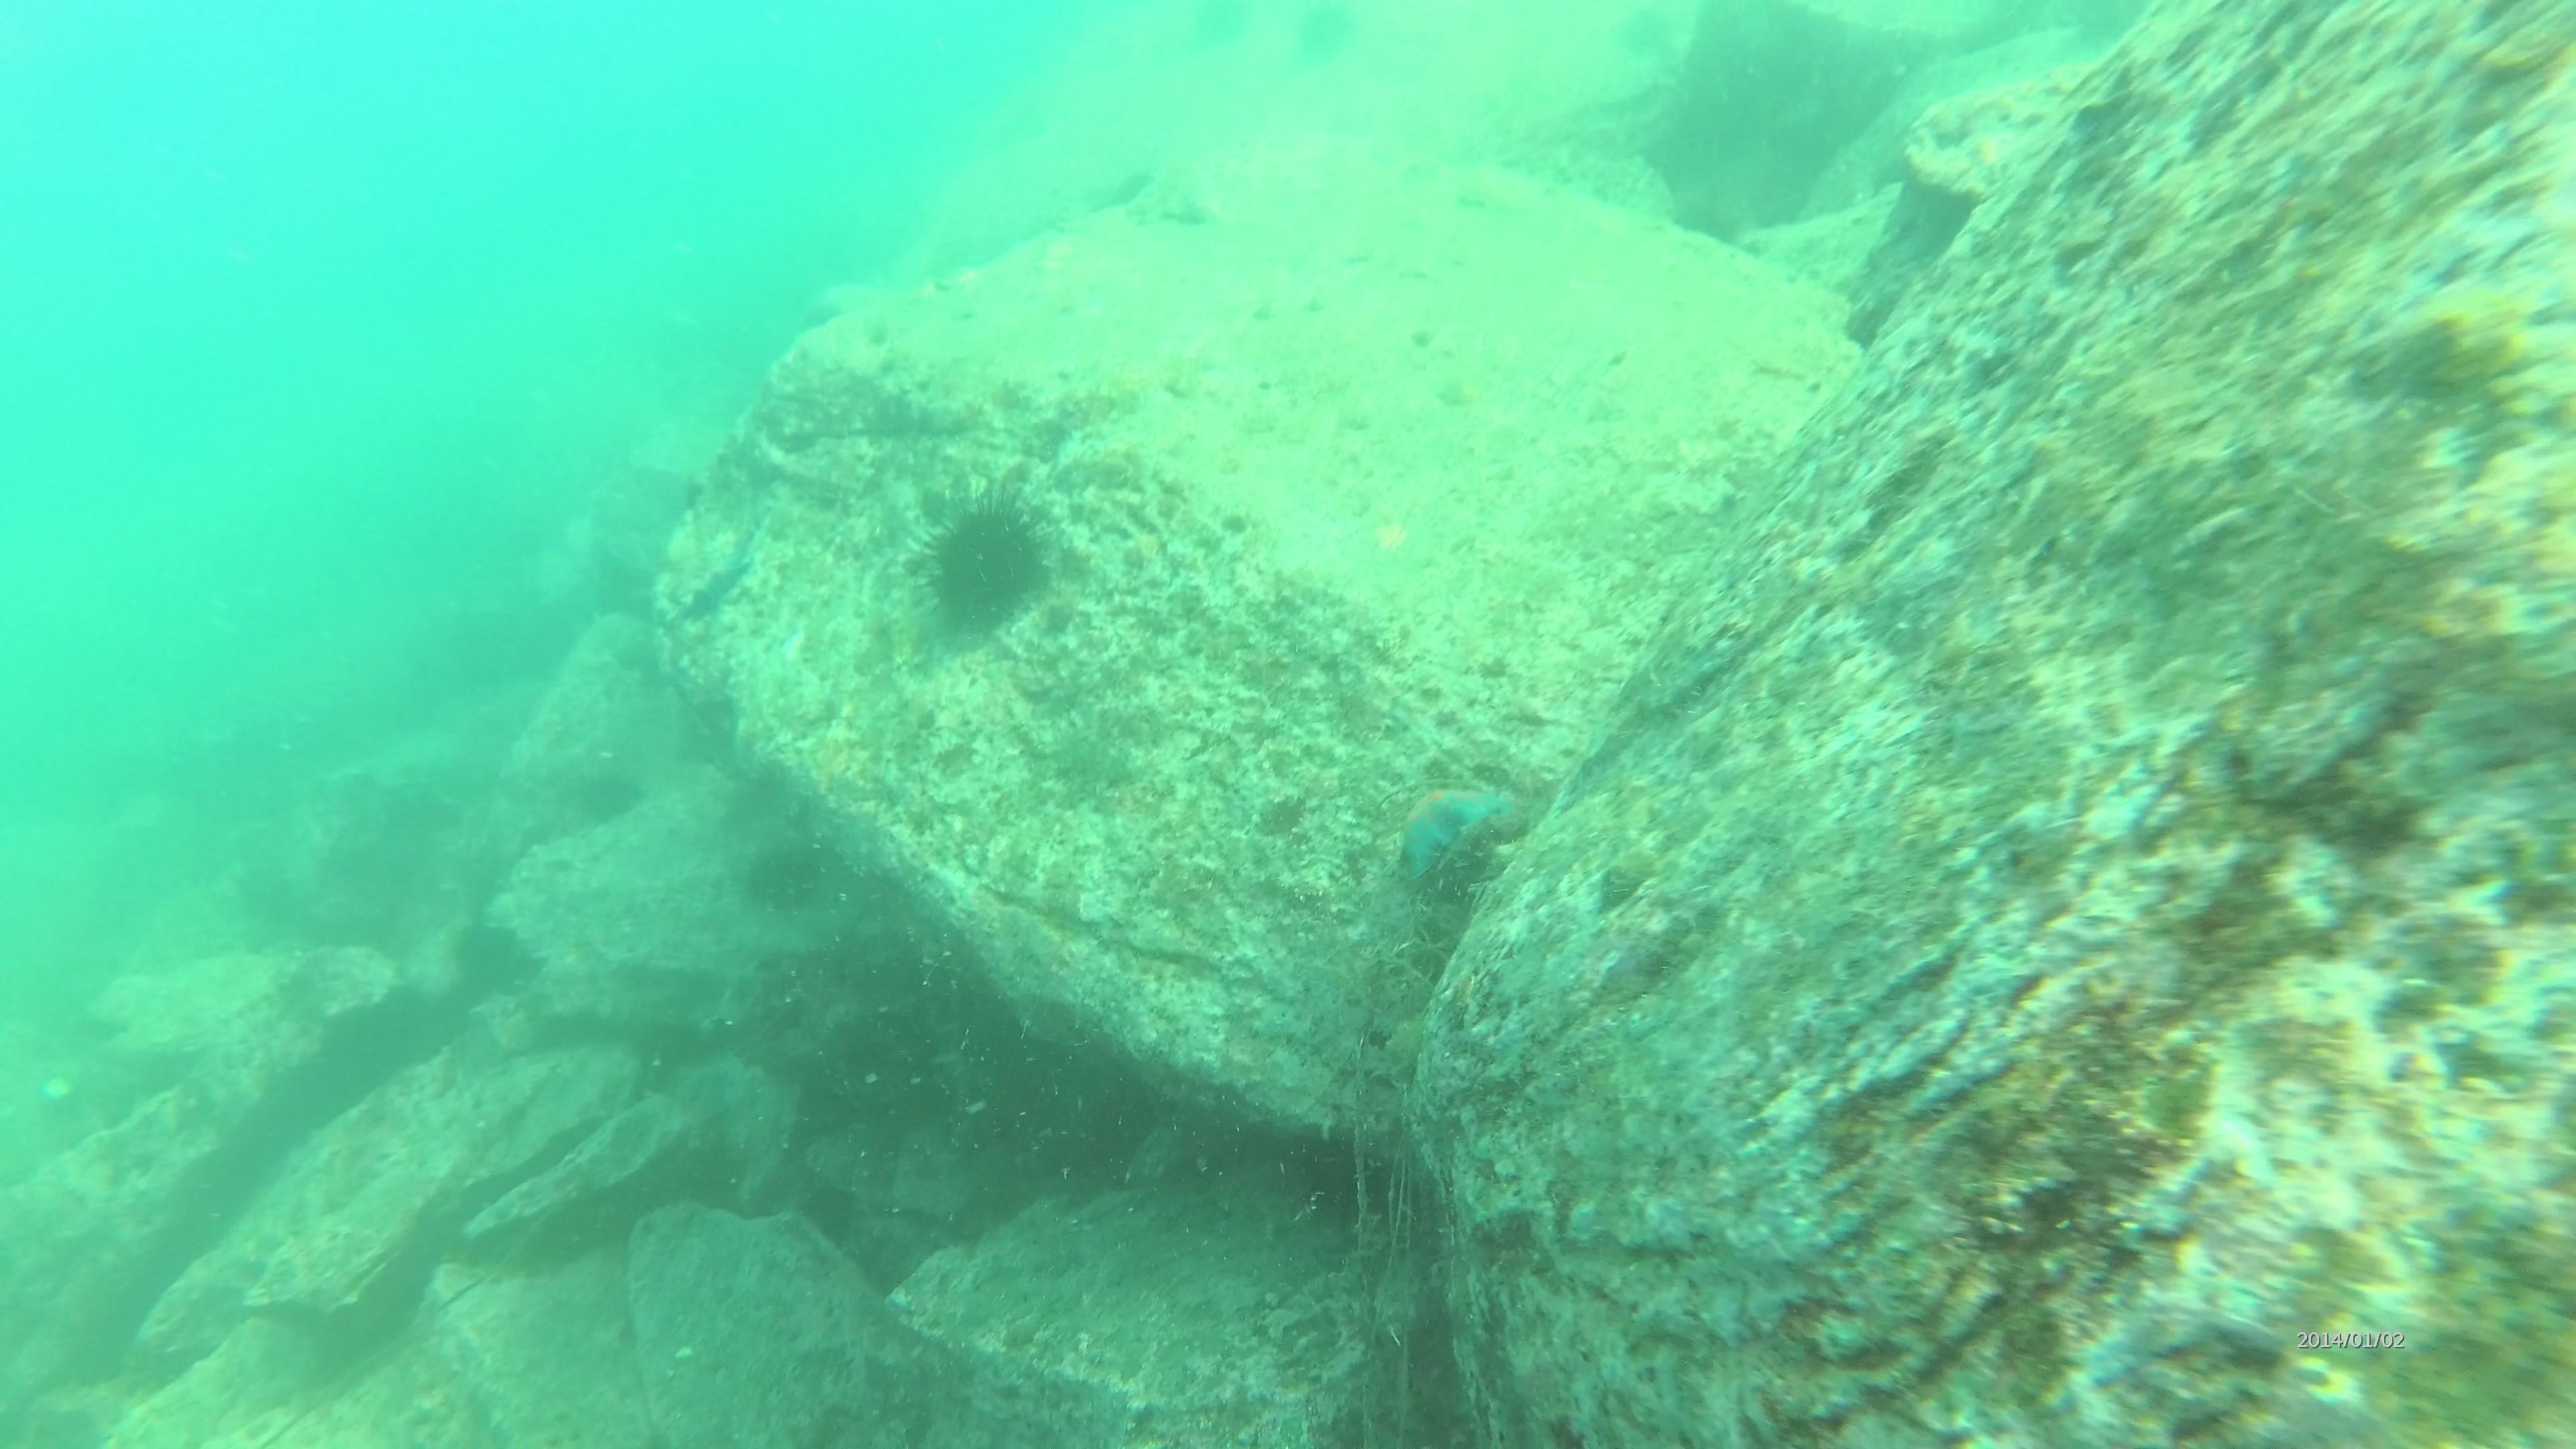echinus: (909, 481, 1058, 640), (444, 911, 545, 1003), (734, 830, 835, 920), (564, 755, 649, 832)
starfish: (1382, 771, 1520, 888)
